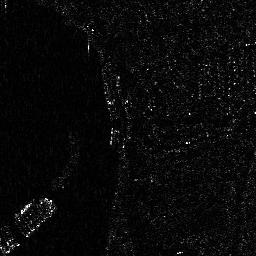ship: (99, 70, 119, 117)
